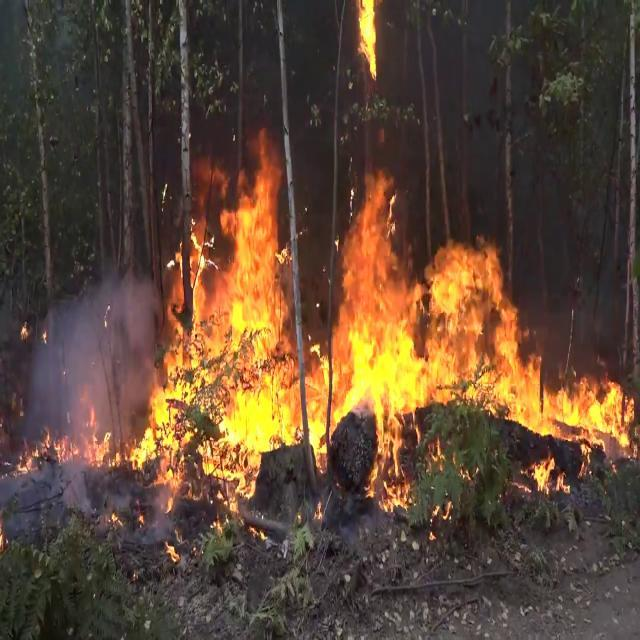Fire: (132, 145, 537, 521), (510, 348, 640, 498), (18, 398, 144, 476), (525, 448, 567, 499), (357, 0, 379, 78), (357, 1, 379, 76)
Smoke: (15, 247, 154, 473)
